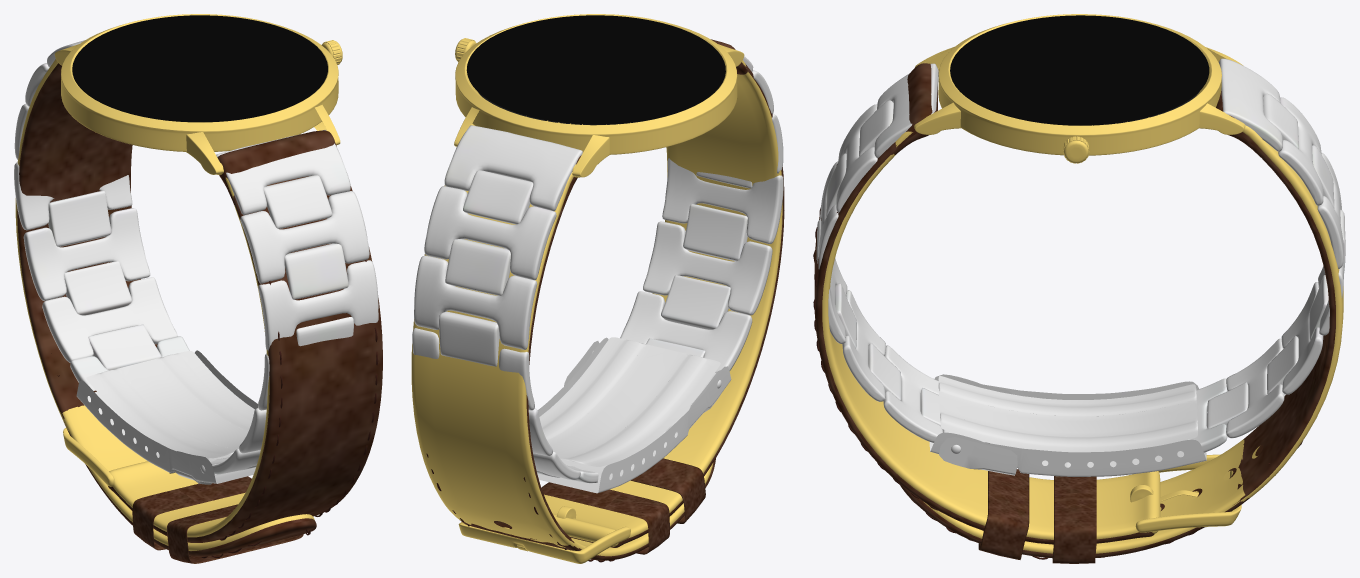
File: watch_model-transformed.glb
3 renders of one model, left to right at view 1: azimuth 30°, elevation 25°; view 2: azimuth 150°, elevation 25°; view 3: azimuth 270°, elevation 25°, orthographic.
Visible parts, largest first — view 1: strap-metal_Baked, strap_leather_Baked, glass_Baked, bottom-metal_Baked, top_metal_Baked, strap_gold_Baked, goma_Baked, bar_Baked, spil_Baked, stich_Baked; view 2: strap-metal_Baked, strap_gold_Baked, glass_Baked, bottom-metal_Baked, top_metal_Baked, goma_Baked, strap_leather_Baked, spil_Baked, bar_Baked, bottom-metal 2_Baked; view 3: strap-metal_Baked, strap_gold_Baked, glass_Baked, bottom-metal_Baked, strap_leather_Baked, top_metal_Baked, goma_Baked, bar_Baked, bottom-metal 2_Baked, spil_Baked.
Boxes of the visible parts, box(x1,y1,x2,y2) form: strap-metal_Baked: box(14, 40, 378, 474); strap_leather_Baked: box(17, 63, 382, 556); glass_Baked: box(72, 15, 327, 122); bottom-metal_Baked: box(76, 350, 257, 483); top_metal_Baked: box(61, 14, 338, 151); strap_gold_Baked: box(15, 59, 314, 550); goma_Baked: box(132, 476, 303, 563); bar_Baked: box(54, 44, 340, 174); spil_Baked: box(63, 428, 175, 486); stich_Baked: box(51, 213, 378, 558); strap-metal_Baked: box(412, 56, 783, 483); strap_gold_Baked: box(411, 60, 782, 556); glass_Baked: box(466, 15, 725, 124); bottom-metal_Baked: box(537, 337, 731, 493); top_metal_Baked: box(455, 14, 737, 154); goma_Baked: box(541, 458, 705, 554); strap_leather_Baked: box(460, 39, 784, 560); spil_Baked: box(458, 506, 630, 563); bar_Baked: box(454, 44, 744, 177); bottom-metal 2_Baked: box(564, 341, 721, 428); strap-metal_Baked: box(816, 58, 1345, 452); strap_gold_Baked: box(822, 125, 1343, 553); glass_Baked: box(950, 15, 1209, 125); bottom-metal_Baked: box(929, 374, 1206, 476); strap_leather_Baked: box(814, 63, 1335, 558); top_metal_Baked: box(938, 14, 1221, 155); goma_Baked: box(978, 469, 1096, 563); bar_Baked: box(914, 46, 1245, 134); bottom-metal 2_Baked: box(939, 377, 1017, 475); spil_Baked: box(1130, 454, 1241, 532).
Bounding box in the file's own units: 2.43 × 4.16 × 4.28.
Materials: 1 (1 with a texture image).
